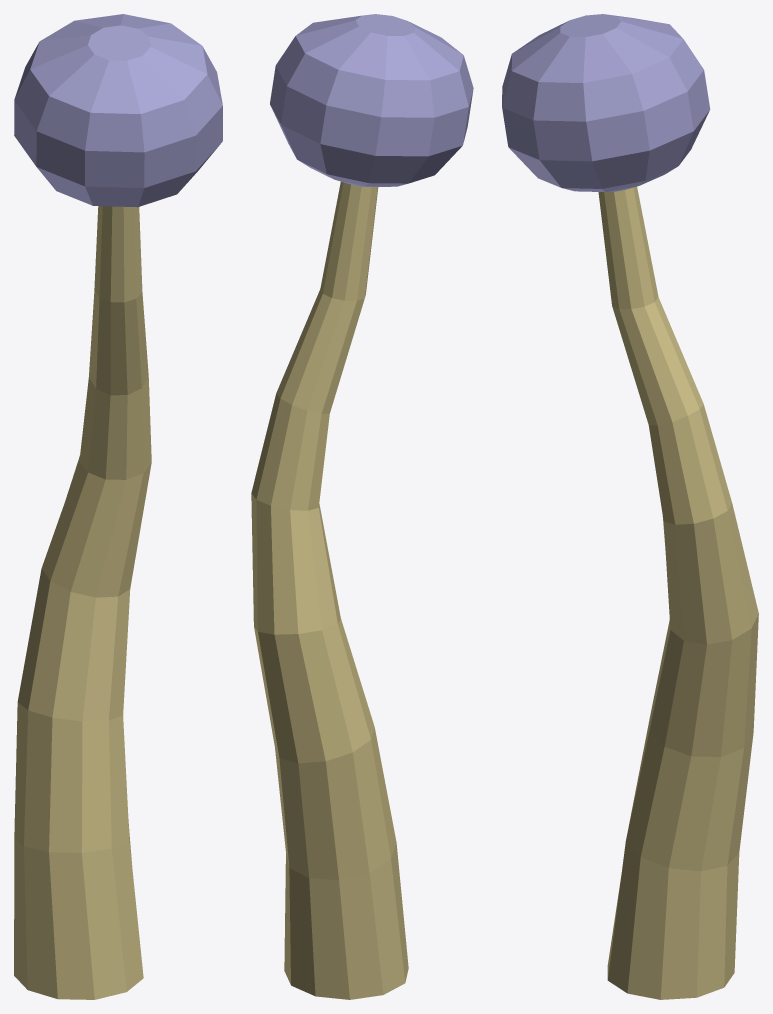
File: mushroom9.fbx
3 renders of one model, left to right at view 1: azimuth 30°, elevation 25°; view 2: azimuth 150°, elevation 25°; view 3: azimuth 270°, elevation 25°, orthographic. The views are drawn at different scales.
Parts seen in each view (by area): view 1: Cylinder; view 2: Cylinder; view 3: Cylinder.
Part boxes in pixels (left/top/right/bottom): Cylinder: left=14, top=14, right=222, bottom=999; Cylinder: left=251, top=14, right=473, bottom=999; Cylinder: left=502, top=14, right=758, bottom=999.
Bounding box in the file's own units: 323 × 1622 × 397.
